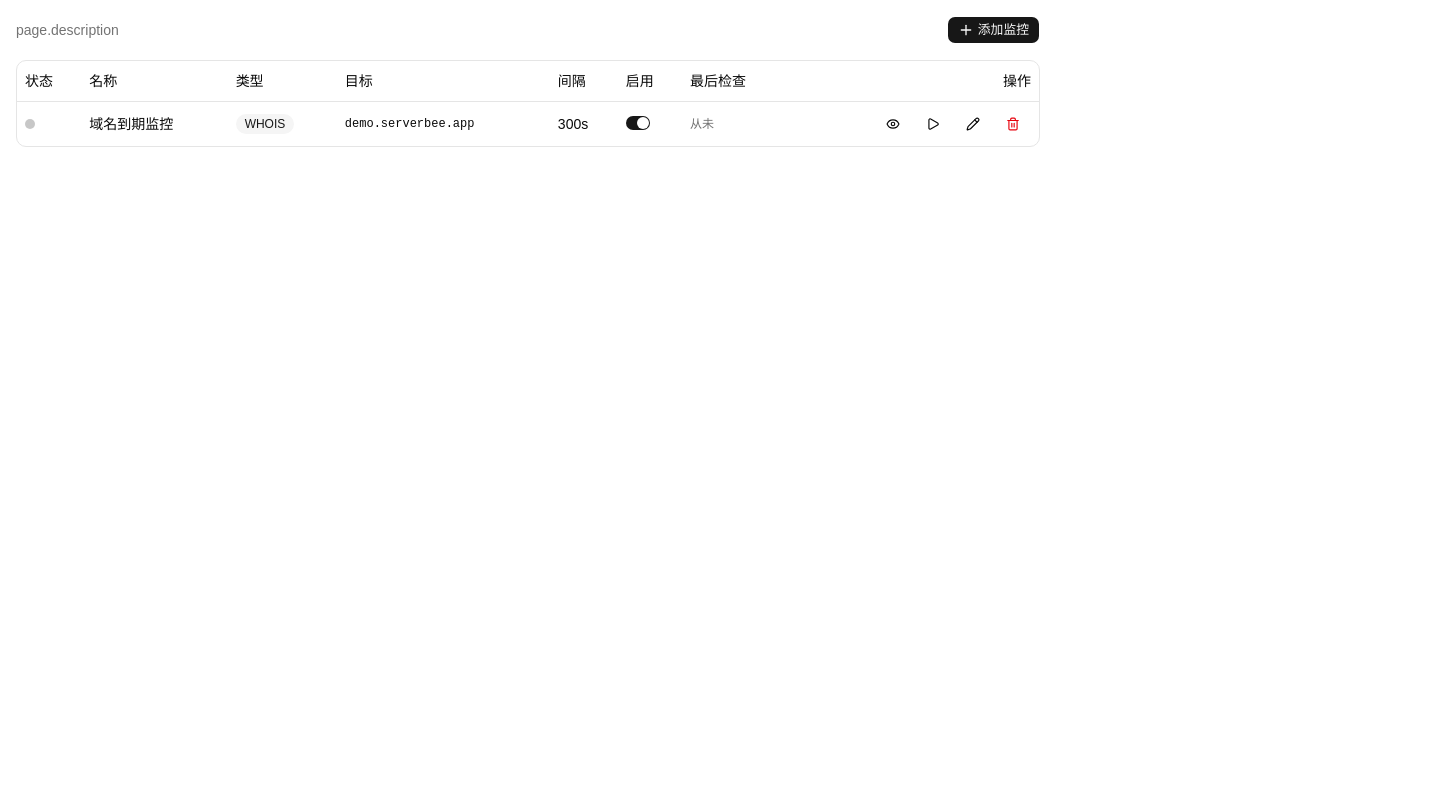
Test case: ServiceMonitorsPage › prefills the edit dialog with the selected monitor data
Click the button named "编辑监控": (973,124) [955, 110, 991, 138]
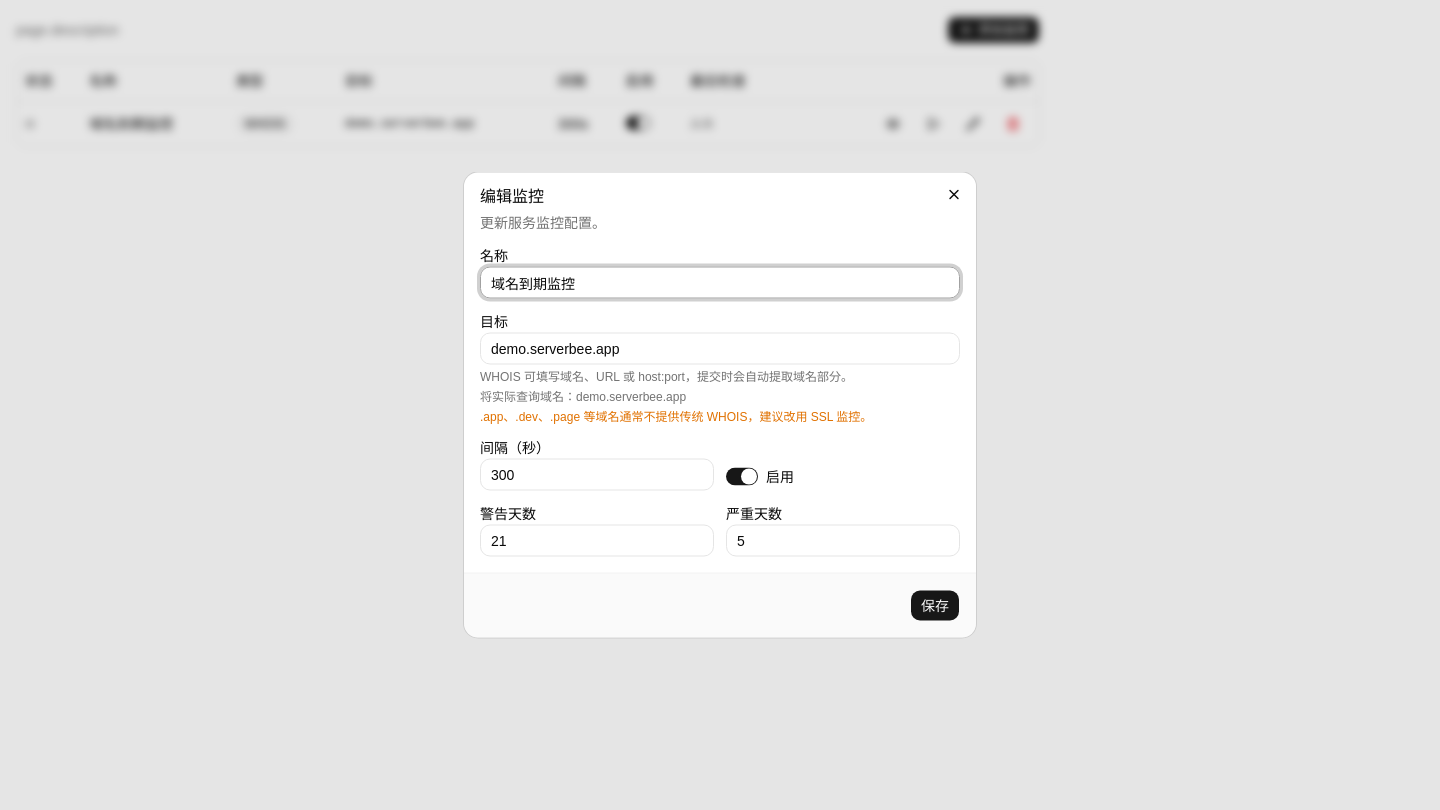
Expected: the heading "编辑监控" is shown, [480, 188, 544, 204]
Expected: the field labelled "名称" holds "域名到期监控", [480, 266, 960, 298]
Expected: the field labelled "目标" holds "demo.serverbee.app", [480, 332, 960, 364]
